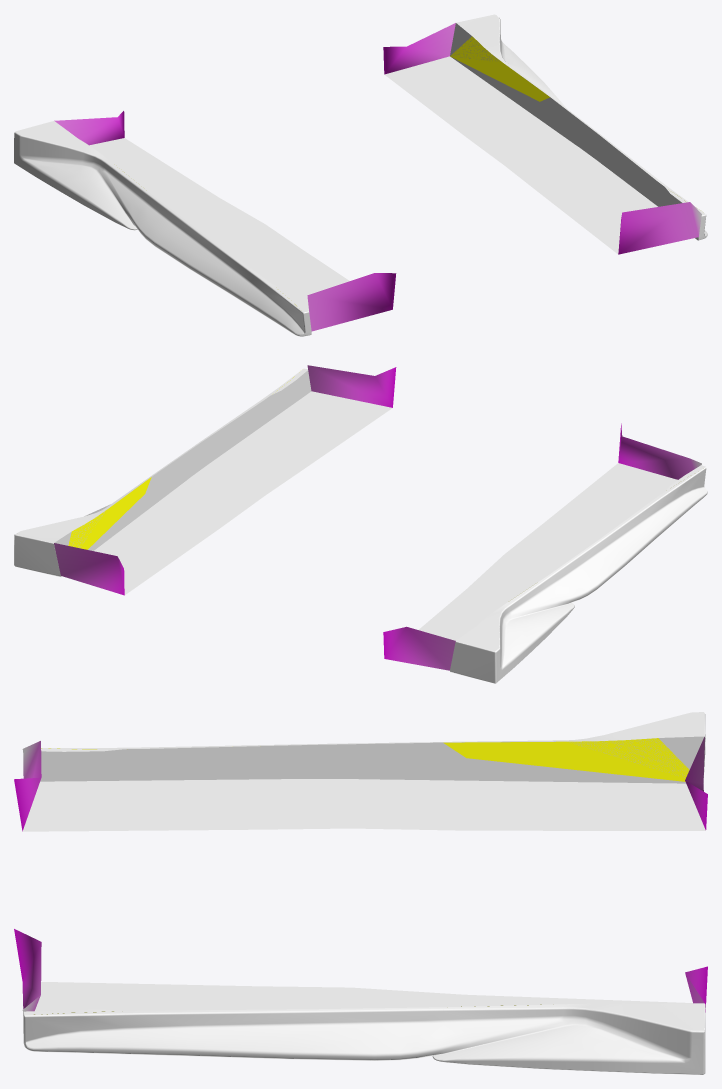
Rendered from Car_Mini_CountrymanJCW_2017_Skirts_SetF.fbx.
3 renders of one model, top to bottom at view 1: azimuth 30°, elevation 25°; view 2: azimuth 150°, elevation 25°; view 3: azimuth 270°, elevation 25°, orthographic. The views are drawn at different scales.
Visible parts, largest first — view 1: Skirts 6; view 2: Skirts 6; view 3: Skirts 6.
Boxes of the visible parts, x1=… form: Skirts 6: x1=14, y1=14, x2=707, y2=336; Skirts 6: x1=14, y1=365, x2=707, y2=683; Skirts 6: x1=14, y1=712, x2=707, y2=1074.
Bounding box in the file's own units: 2.07 × 0.1912 × 1.9.
